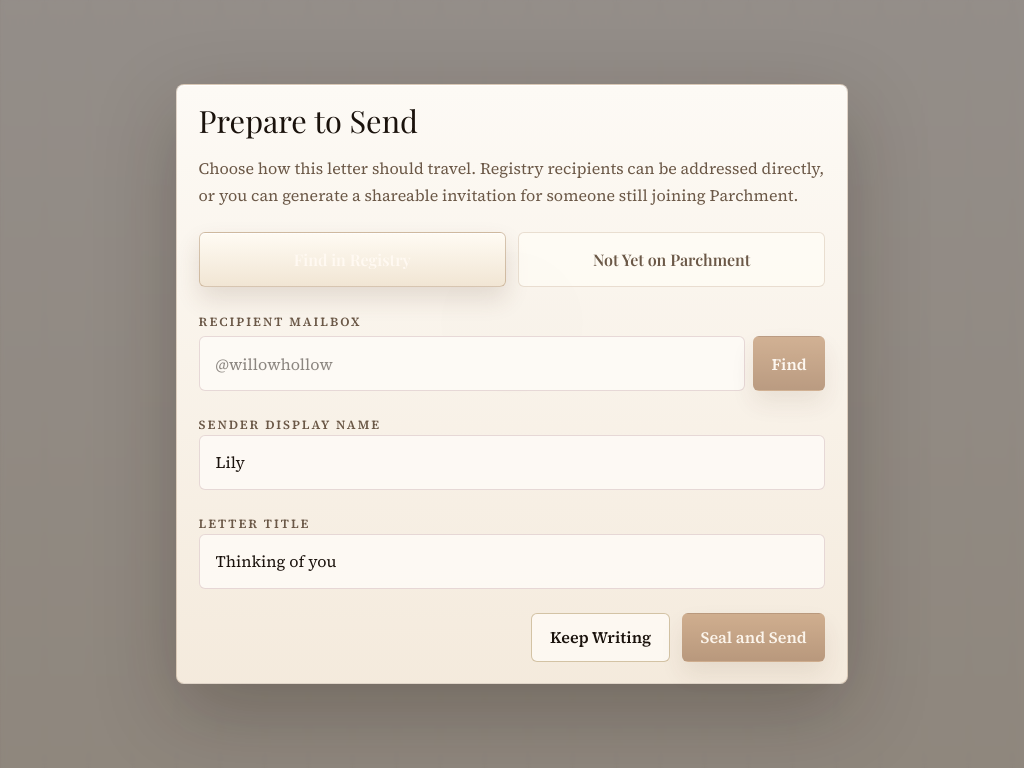
Test: SendLetterModal › clears registry errors when switching to invite mode
Type "unknown" into the field with placeholder "@willowhollow" at (472,364), box [199,336,745,391]
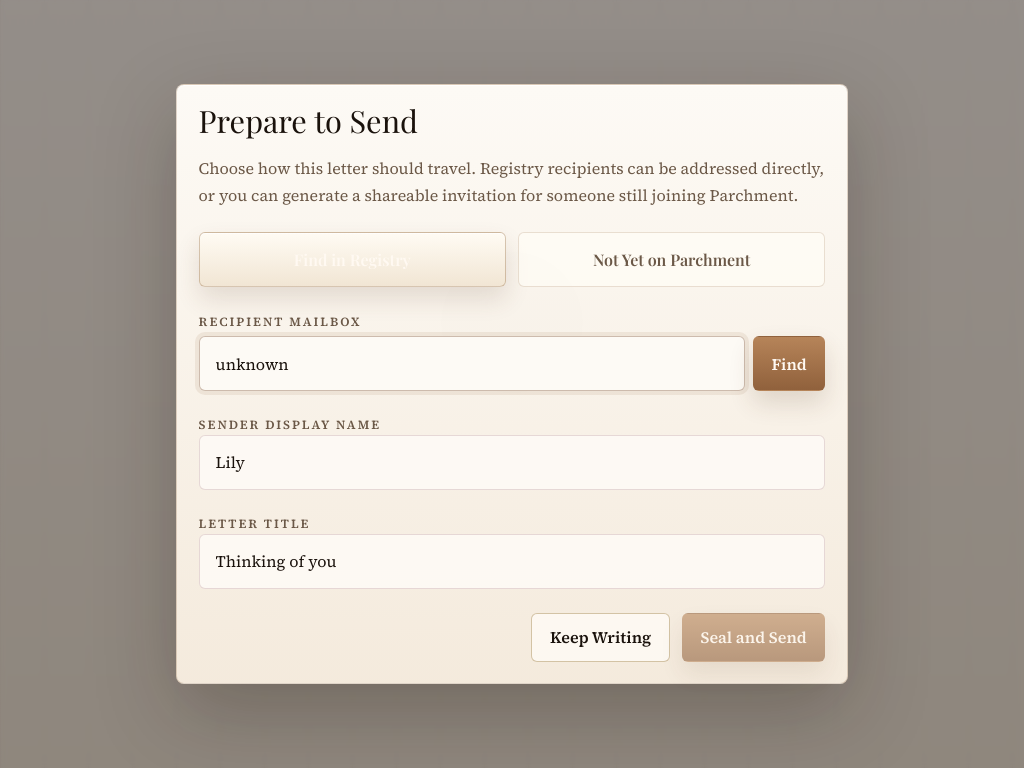
Click the button "Find" at (789,364), box [753,336,825,391]
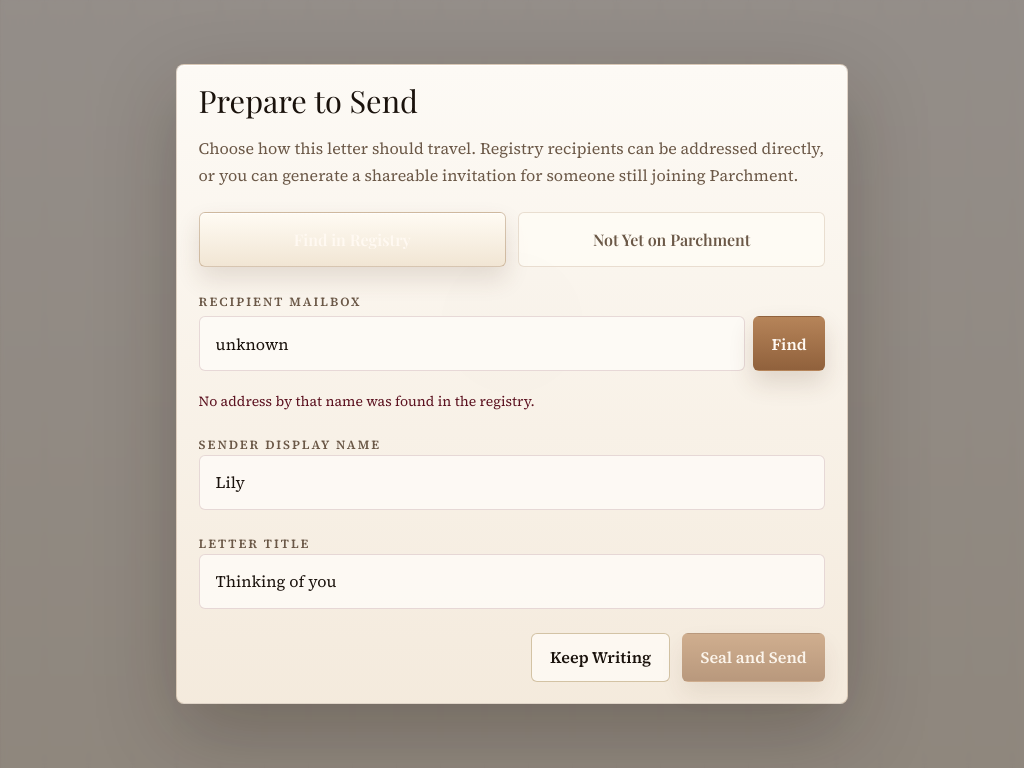
Expected: the text "No address by that name was found in the registry." is shown, [199,391,535,411]
Click the button "Not Yet on Parchment" at (672,240), box [518,212,825,267]
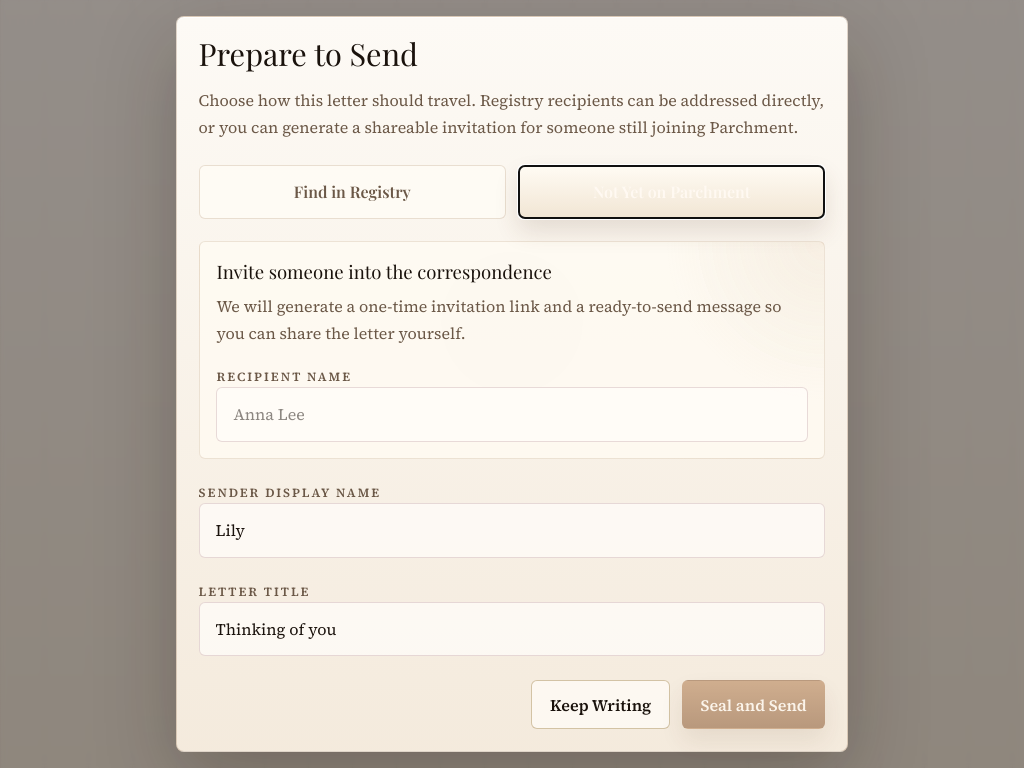
Expected: the text "No address by that name was found in the registry." is gone
